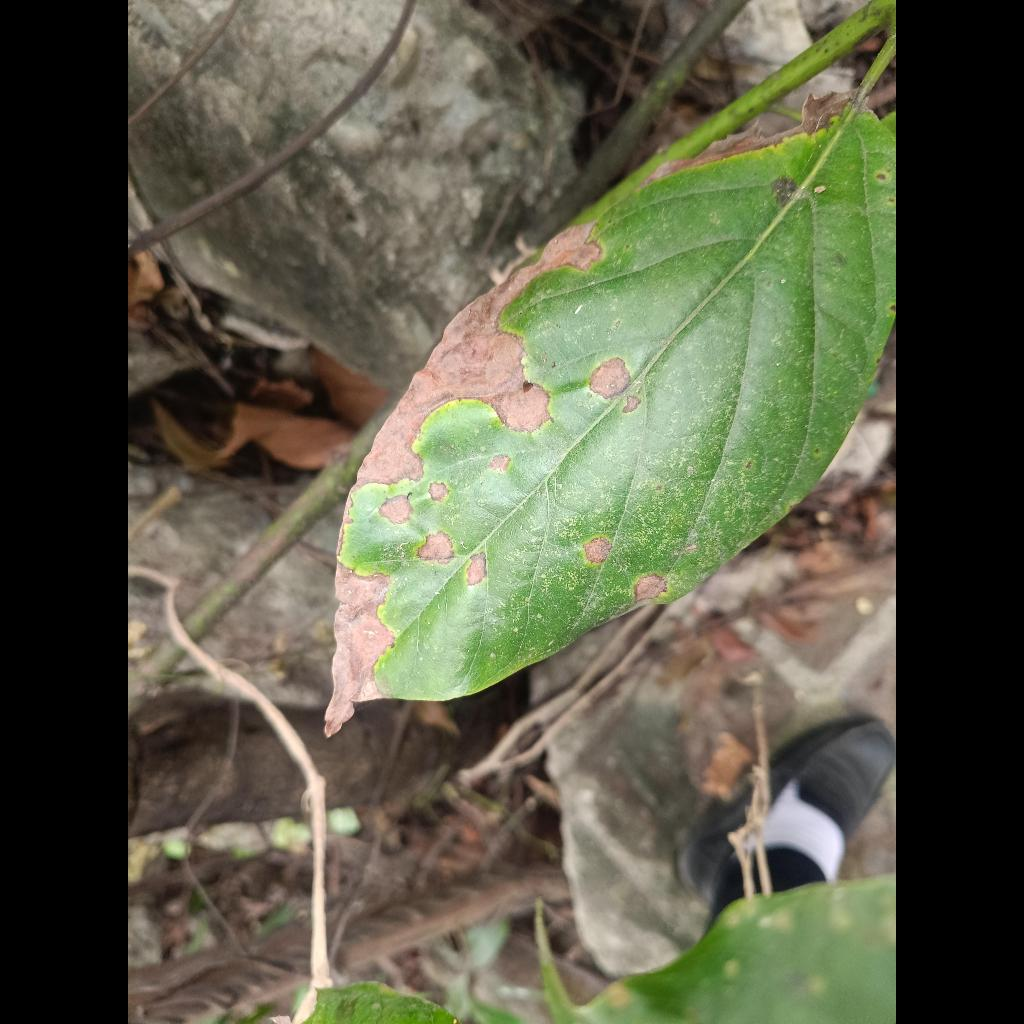antracnosis_hoja: (327, 109, 896, 733)
